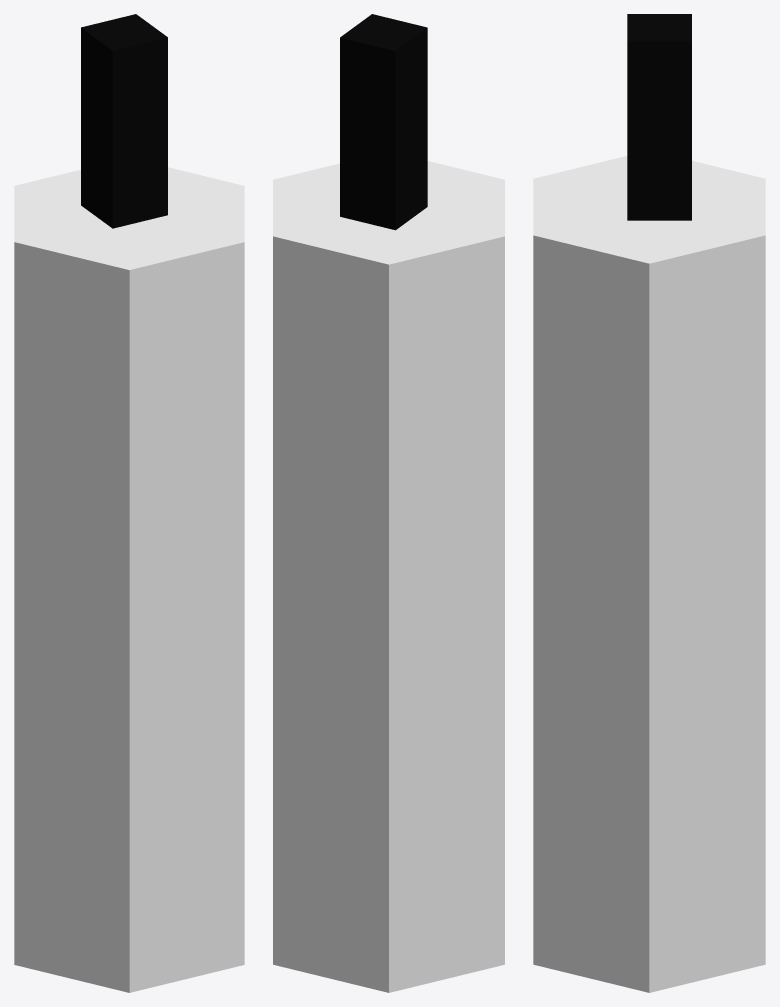
The model's file is kynttila1_white.FBX.
The picture shows the model from 3 angles, left to right: view 1: azimuth 30°, elevation 25°; view 2: azimuth 150°, elevation 25°; view 3: azimuth 270°, elevation 25°; orthographic projection.
Parts seen in each view (by area): view 1: Kynttila1_white; view 2: Kynttila1_white; view 3: Kynttila1_white.
Part boxes in pixels (x1,y1,x2,y2): Kynttila1_white: (14,14,244,992); Kynttila1_white: (273,14,504,992); Kynttila1_white: (533,14,765,992).
Bounding box in the file's own units: 10 × 37.38 × 8.66.
